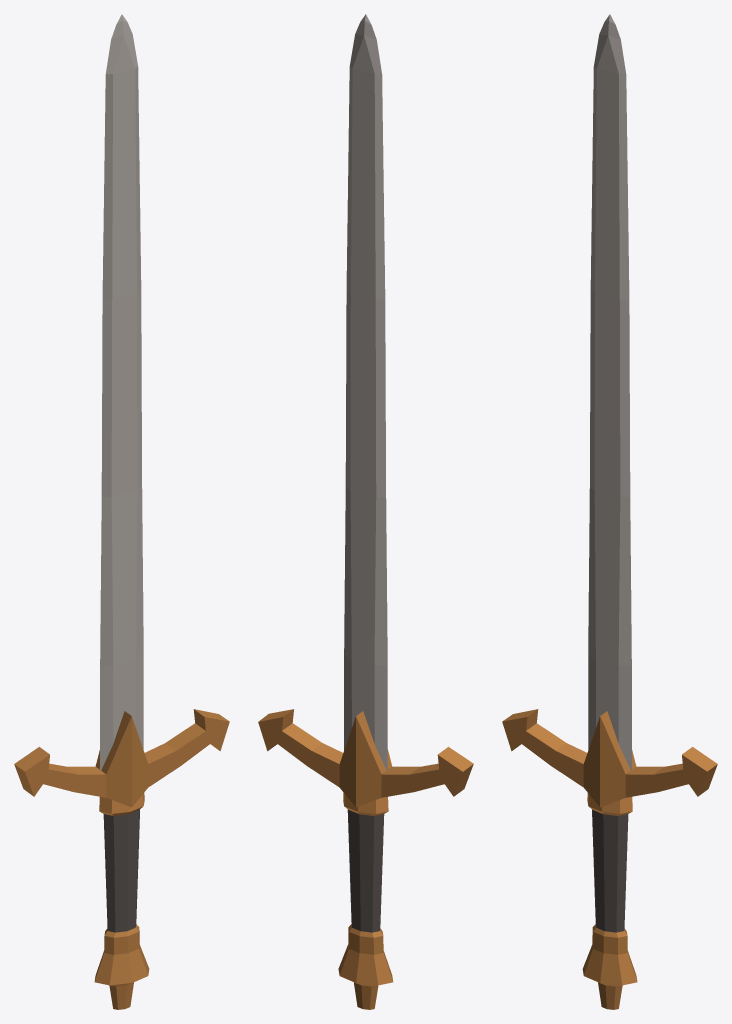
The model's file is SM_pwe_fantasy_sword_06.fbx.
The picture shows the model from 3 angles, left to right: view 1: azimuth 30°, elevation 25°; view 2: azimuth 150°, elevation 25°; view 3: azimuth 330°, elevation 25°; orthographic projection.
Parts seen in each view (by area): view 1: SM_pwe_fantasy_sword_06; view 2: SM_pwe_fantasy_sword_06; view 3: SM_pwe_fantasy_sword_06.
Part boxes in pixels (left/top/right/bottom): SM_pwe_fantasy_sword_06: left=14, top=14, right=229, bottom=1009; SM_pwe_fantasy_sword_06: left=258, top=14, right=473, bottom=1009; SM_pwe_fantasy_sword_06: left=502, top=14, right=717, bottom=1009.
Bounding box in the file's own units: 26.35 × 122 × 4.41.
